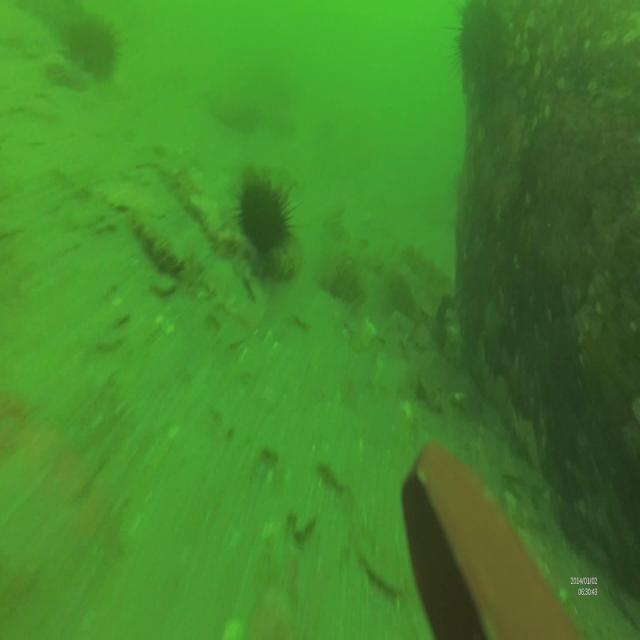echinus: (233, 168, 302, 260), (446, 3, 508, 103), (66, 10, 126, 85)
